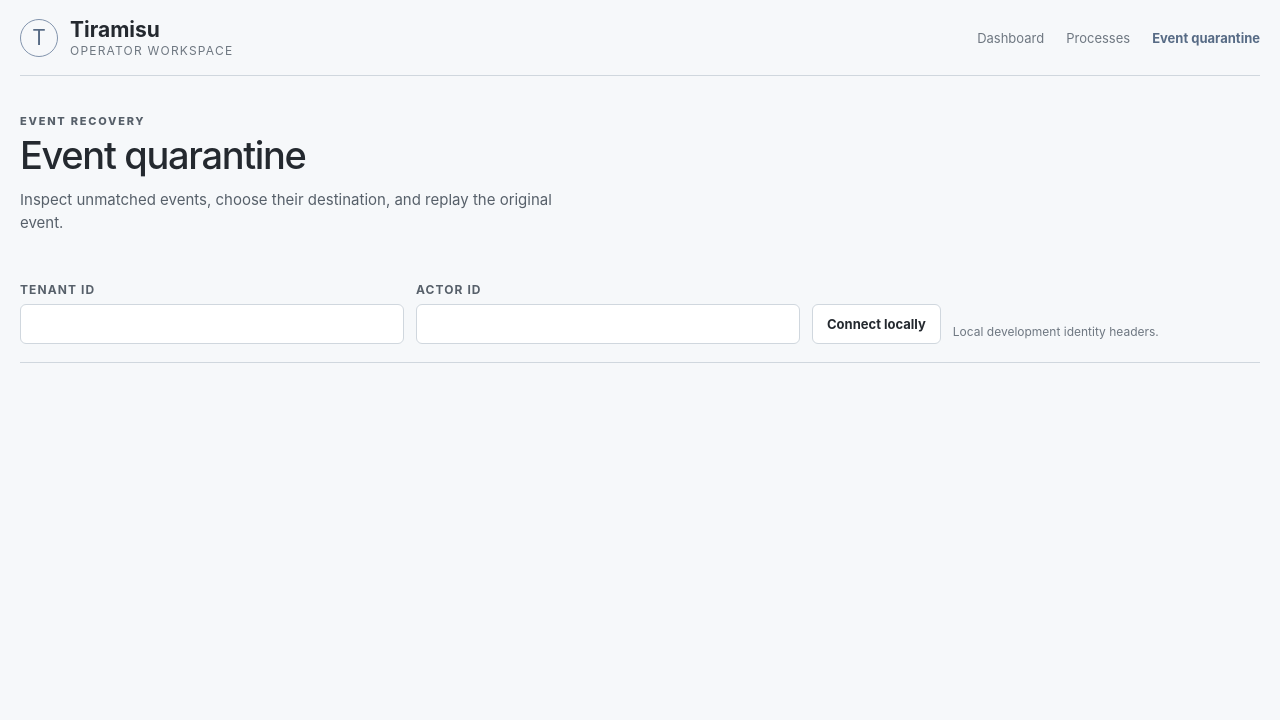
event quarantine › reports denied queue access without claiming the queue is empty
The image size is (1280, 720).
Type "tenant" into the field with test id "tenant-id". click: (212, 324)
box: top-left (20, 304), bottom-right (404, 344)
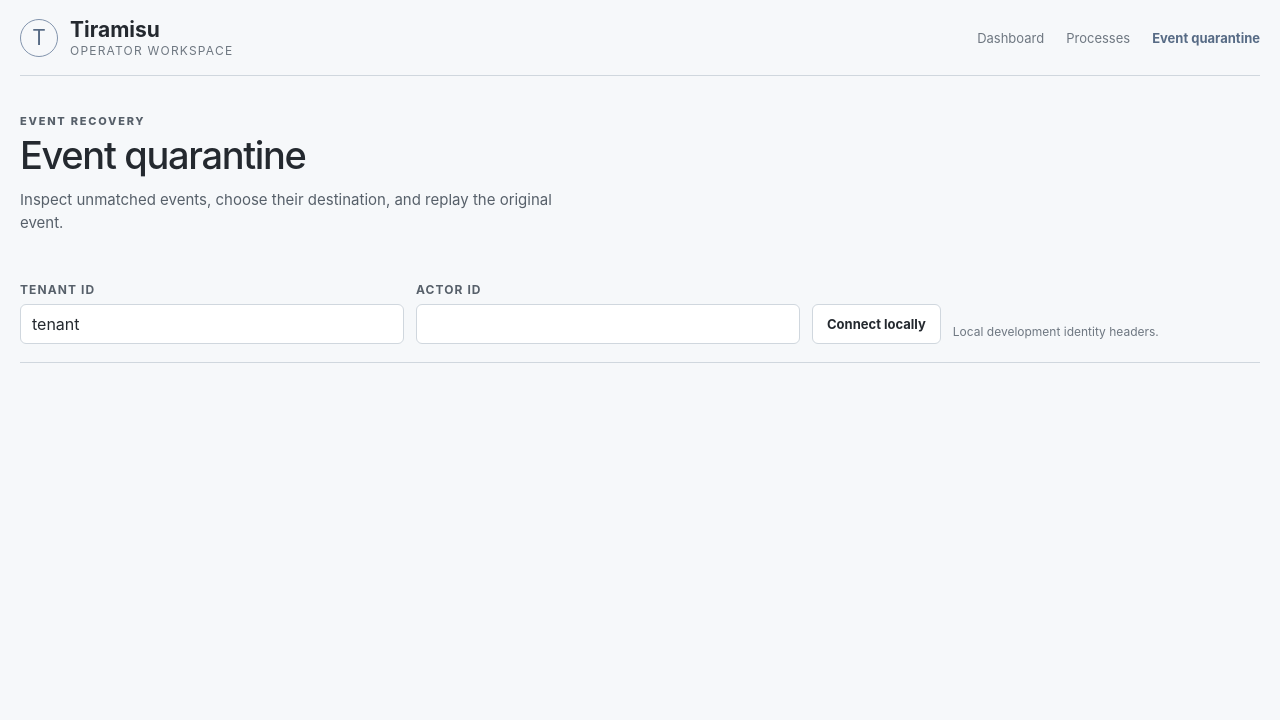
Type "actor" into the field with test id "actor-id". click: (608, 324)
box: top-left (416, 304), bottom-right (800, 344)
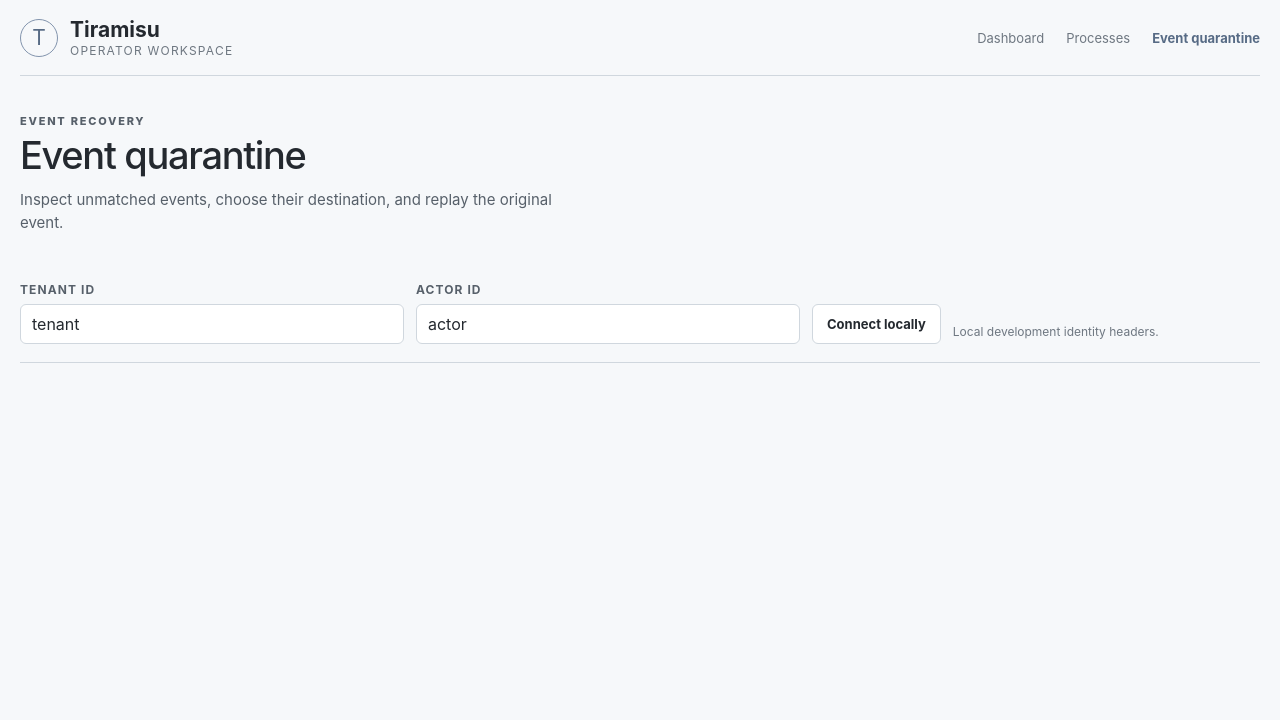
Submit the form, box top-left (20, 264), bottom-right (1260, 363)
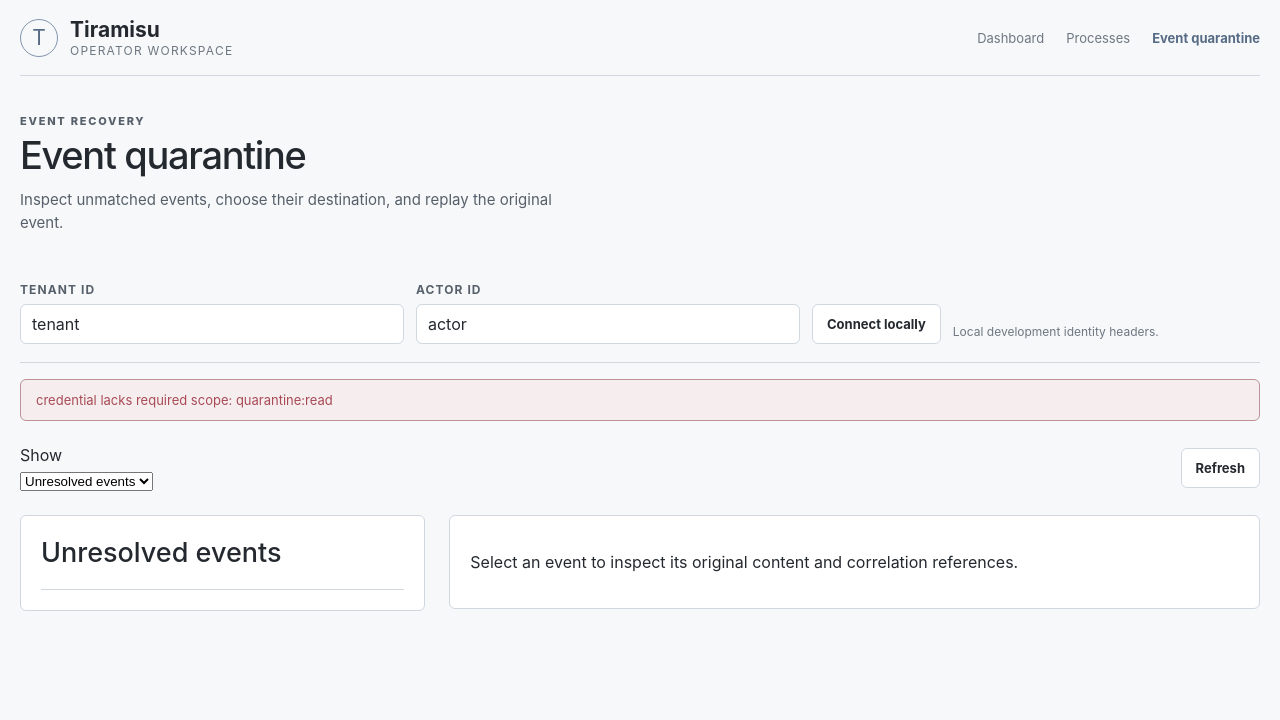
Now the message "credential lacks required scope: quarantine:read" is shown, box top-left (20, 379), bottom-right (1260, 421)
